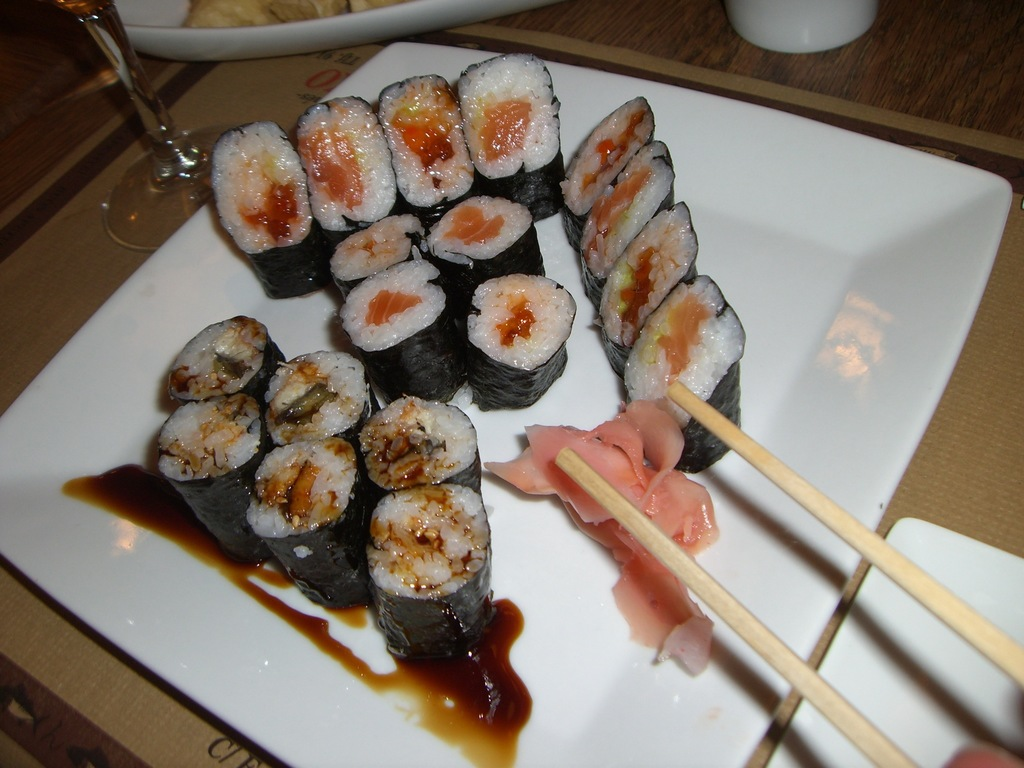sushi: (162, 47, 739, 654), (459, 266, 562, 392), (364, 401, 484, 494)
